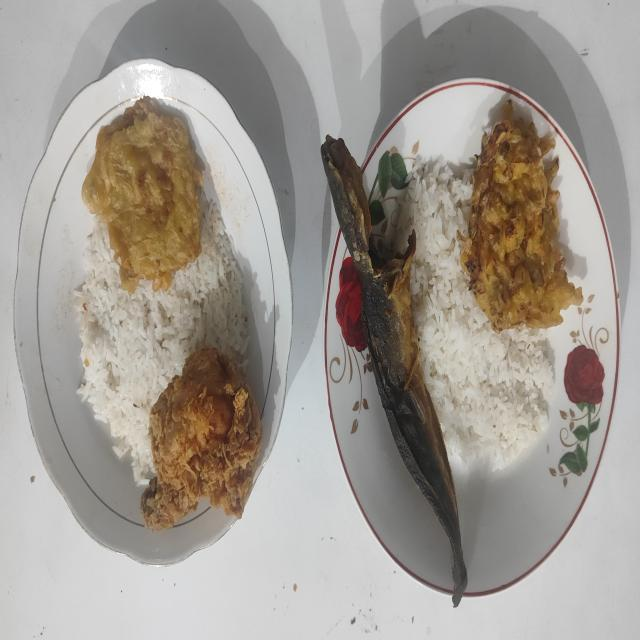nasi_putih: (74, 190, 249, 486), (401, 160, 555, 469)
